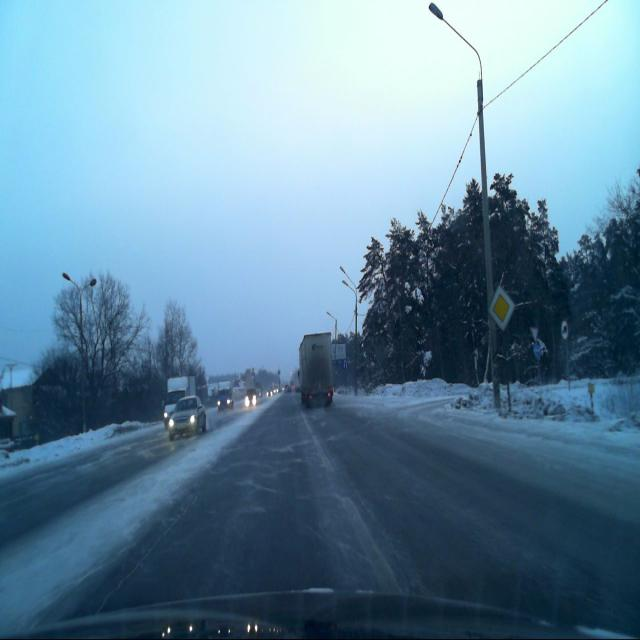object: (503, 333, 512, 416)
road sign: (487, 285, 514, 332)
